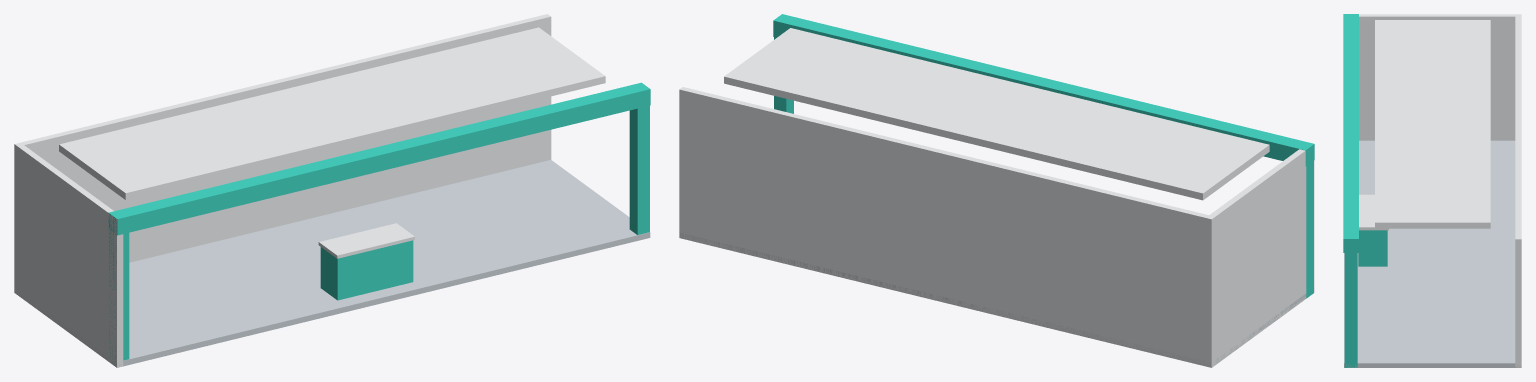
3 views of the same model, side by side, from view 1: azimuth 30°, elevation 25°; view 2: azimuth 150°, elevation 25°; view 3: azimuth 270°, elevation 25° (orthographic). The views are drawn at different scales.
Parts seen in each view (by area): view 1: Exhibition Booth Concept; view 2: Exhibition Booth Concept; view 3: Exhibition Booth Concept.
Part boxes in pixels (bbox=[...]): Exhibition Booth Concept: bbox=[14, 14, 650, 367]; Exhibition Booth Concept: bbox=[679, 14, 1314, 367]; Exhibition Booth Concept: bbox=[1343, 14, 1521, 367].
Bounding box in the file's own units: 12 × 3.34 × 4.02.
